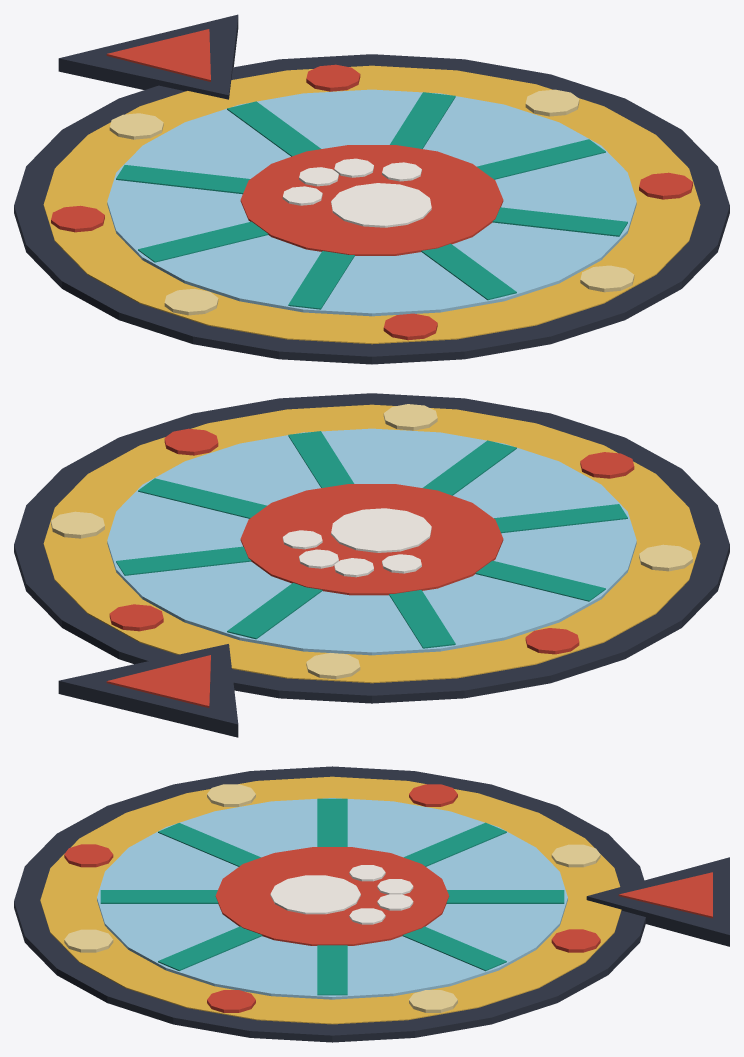
Rendered from CatCafe_Street_SpinWheel_RingIcon_Decor.glb.
3 renders of one model, top to bottom at view 1: azimuth 30°, elevation 25°; view 2: azimuth 150°, elevation 25°; view 3: azimuth 270°, elevation 25°, orthographic. The views are drawn at different scales.
Visible parts, largest first — view 1: CatCafe_Street_SpinWheel_RingIcon_Decor; view 2: CatCafe_Street_SpinWheel_RingIcon_Decor; view 3: CatCafe_Street_SpinWheel_RingIcon_Decor.
Boxes of the visible parts, left/top/right/bottom form: CatCafe_Street_SpinWheel_RingIcon_Decor: left=14, top=14, right=729, bottom=364; CatCafe_Street_SpinWheel_RingIcon_Decor: left=14, top=393, right=729, bottom=737; CatCafe_Street_SpinWheel_RingIcon_Decor: left=14, top=766, right=729, bottom=1042.
Size of the model in its own units: 3.38 by 0.0834 by 3.8.
1 material, 1 textured.
